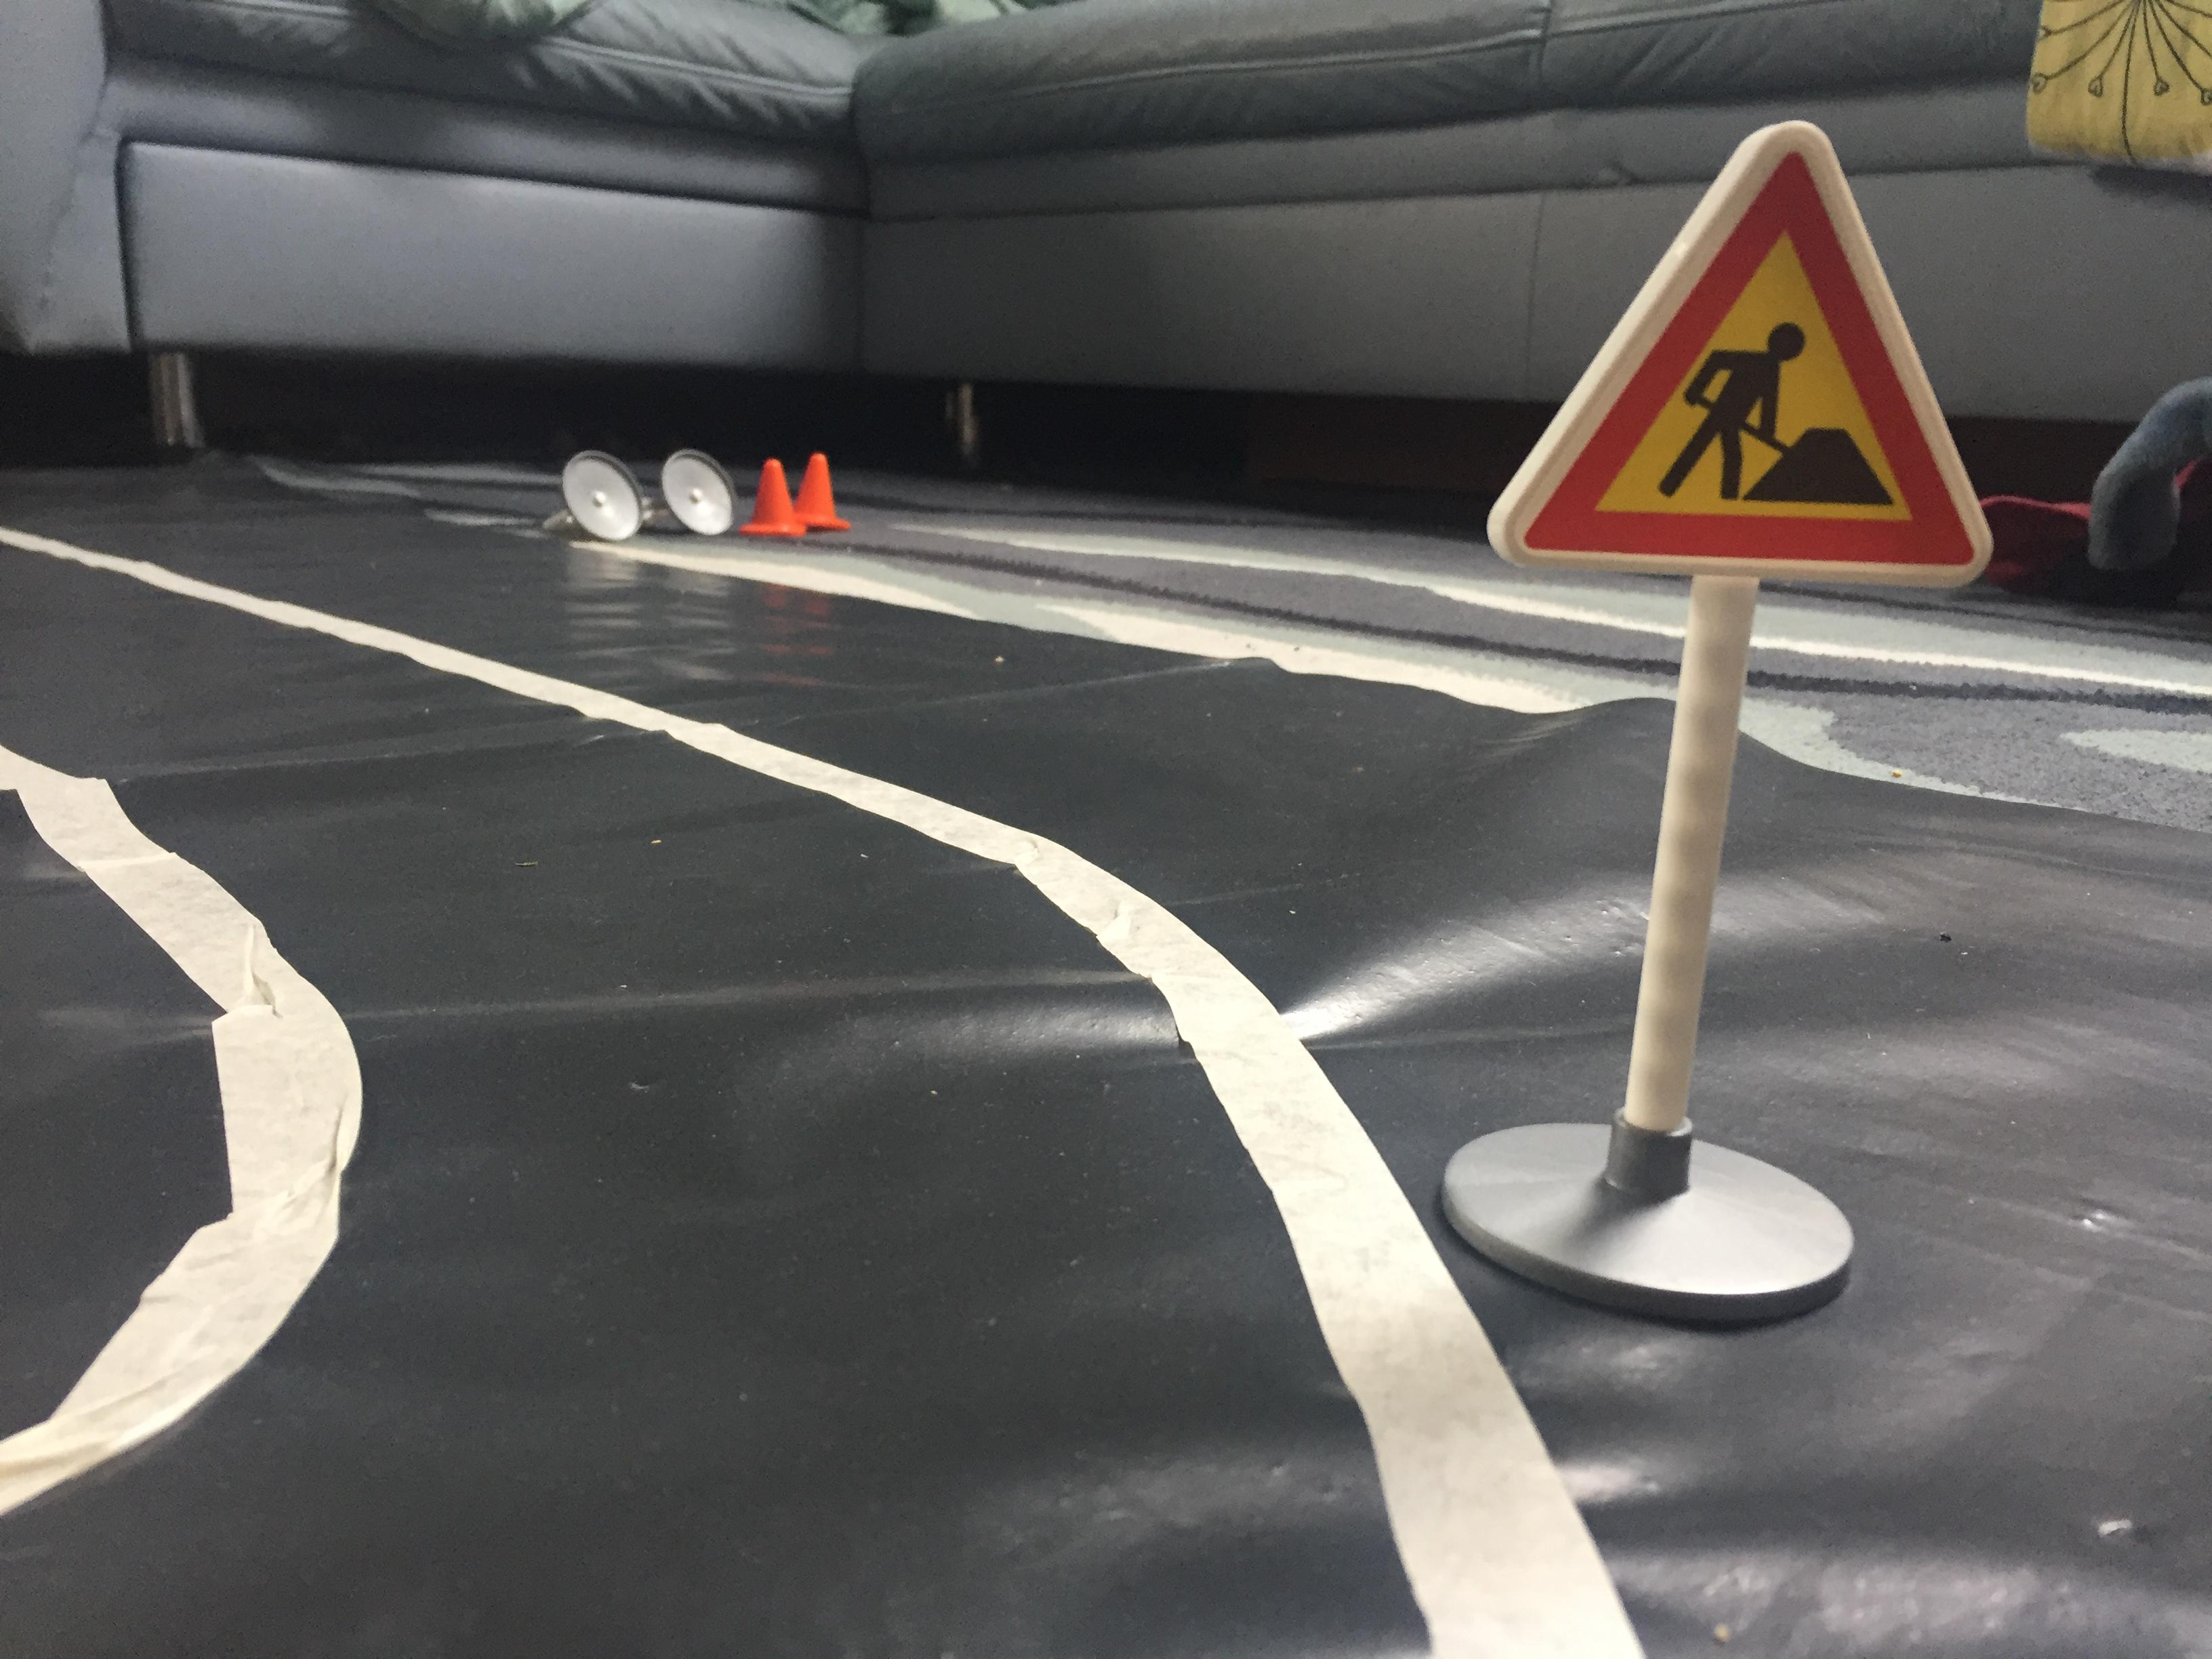work: (1482, 112, 1989, 599)
